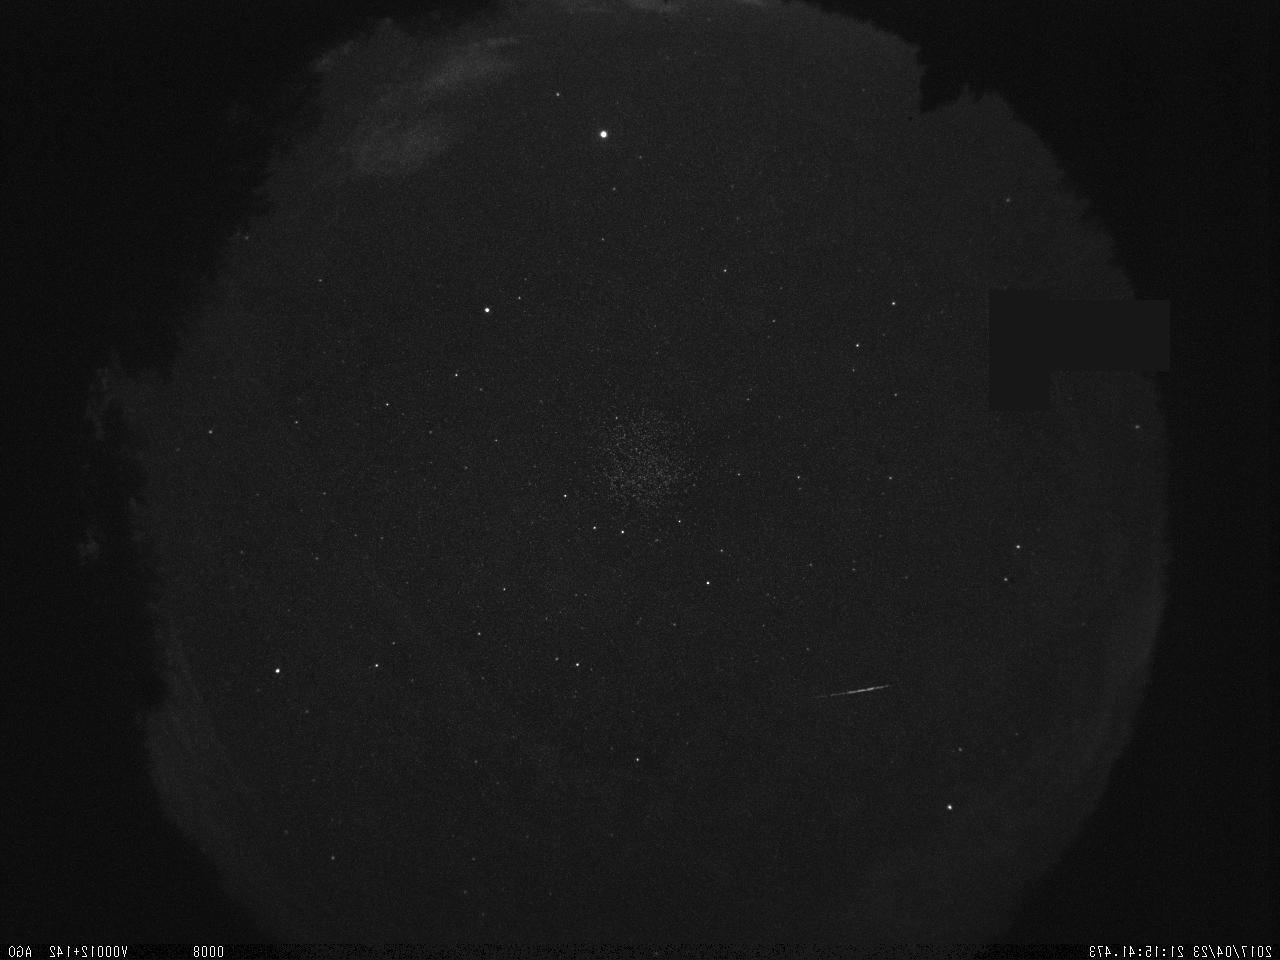meteor: (806, 666, 900, 709)
